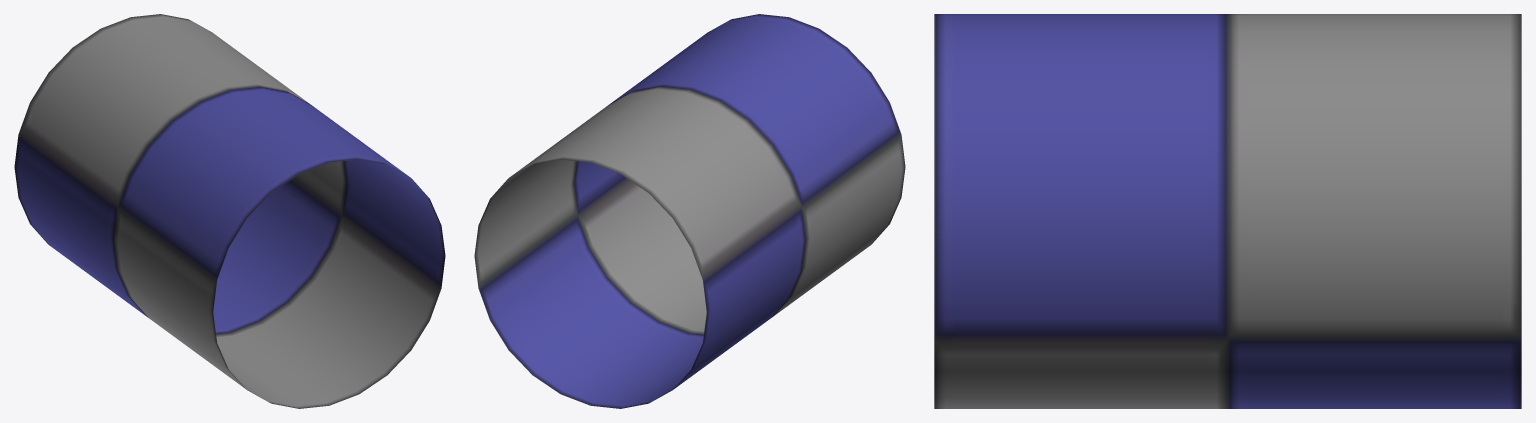
File: Cyilnder.fbx
3 renders of one model, left to right at view 1: azimuth 30°, elevation 25°; view 2: azimuth 150°, elevation 25°; view 3: azimuth 270°, elevation 25°, orthographic. The views are drawn at different scales.
Visible parts, largest first — view 1: cylinder_02; view 2: cylinder_02; view 3: cylinder_02.
Boxes of the visible parts, <box> form: cylinder_02: <box>14,14,445,408</box>; cylinder_02: <box>474,14,905,408</box>; cylinder_02: <box>934,14,1521,408</box>.
Bounding box in the file's own units: 7.99 × 7.99 × 11.84.
